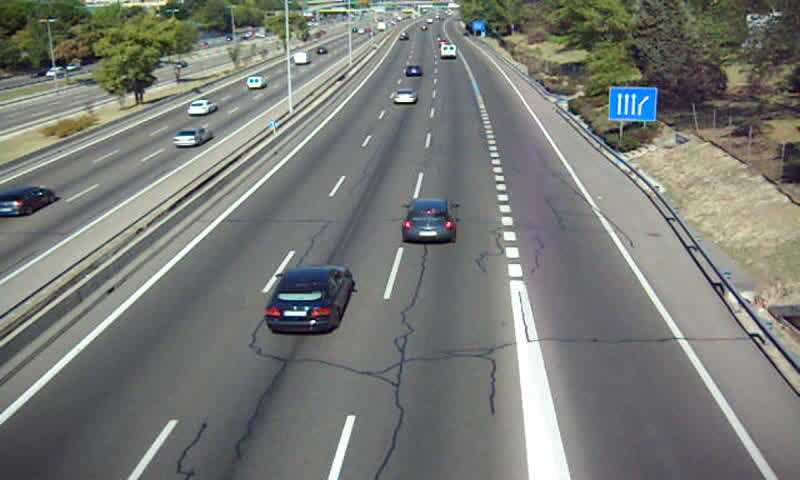car: (265, 266, 356, 333), (403, 200, 454, 242), (392, 88, 418, 106), (404, 64, 424, 80)
van: (440, 43, 457, 58)
